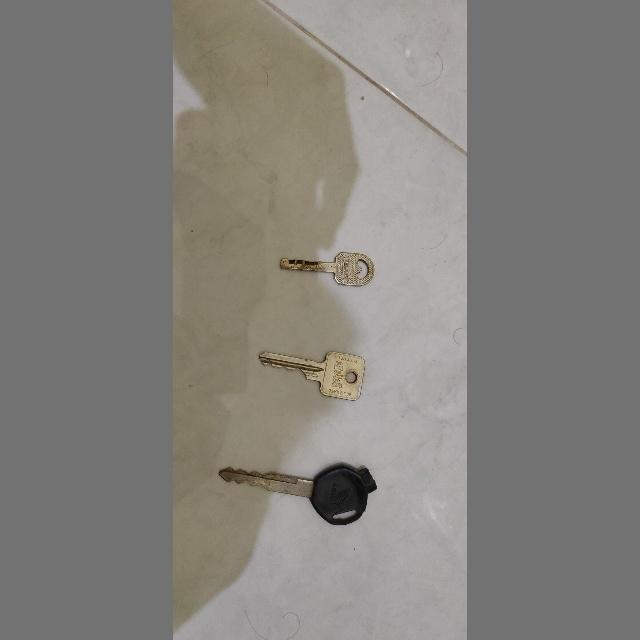Keys: (216, 449, 384, 526), (253, 340, 371, 408), (272, 249, 380, 295)
